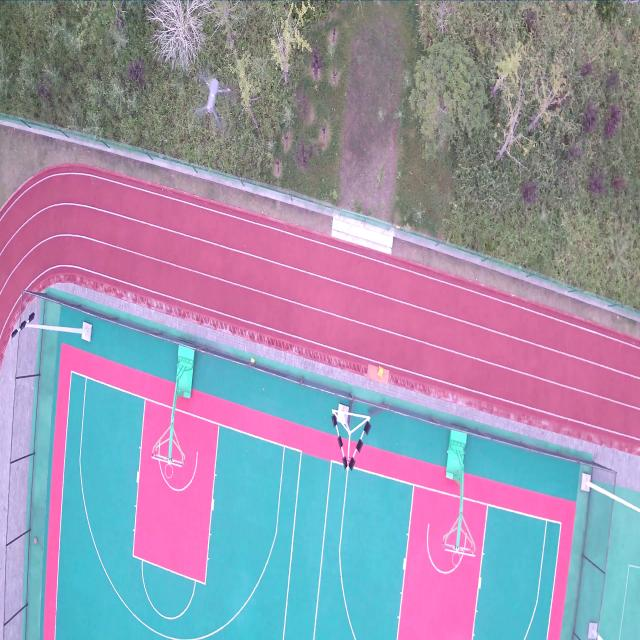UAV: (195, 74, 231, 125)
